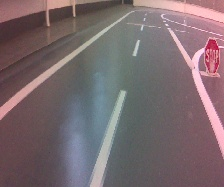stop sign: (203, 37, 221, 75)
